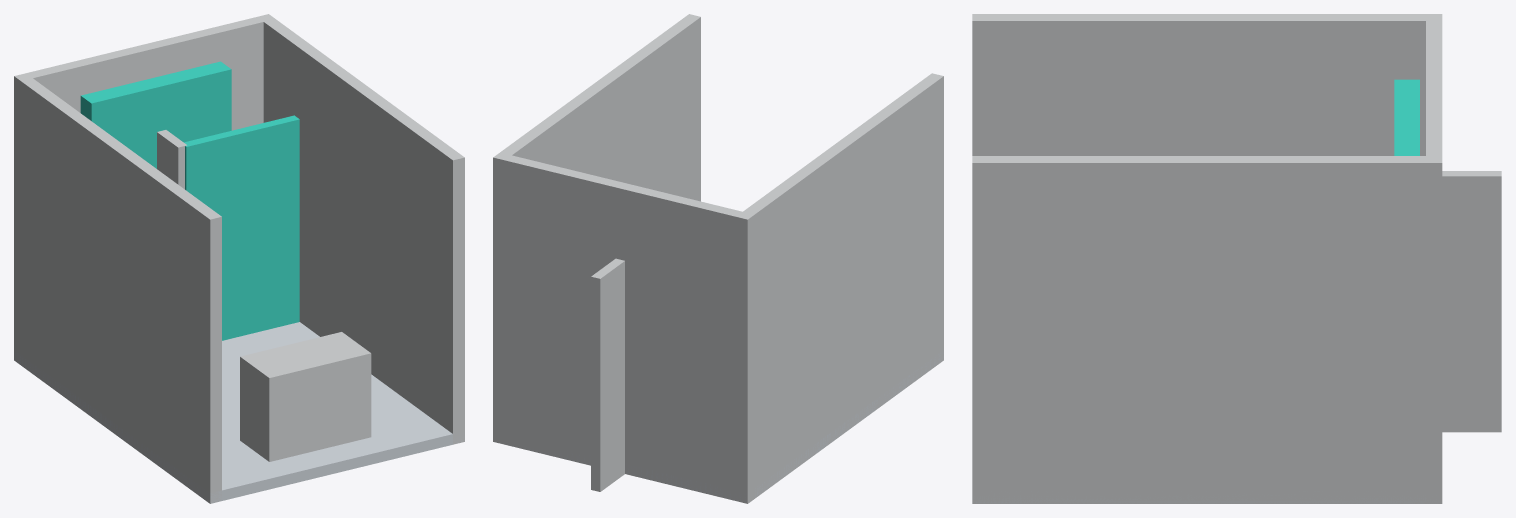
3 renders of one model, left to right at view 1: azimuth 30°, elevation 25°; view 2: azimuth 150°, elevation 25°; view 3: azimuth 270°, elevation 25°, orthographic. The views are drawn at different scales.
Visible parts, largest first — view 1: Exhibition Booth Concept; view 2: Exhibition Booth Concept; view 3: Exhibition Booth Concept.
Boxes of the visible parts, x1,y1,x2,y2 form: Exhibition Booth Concept: [14, 14, 464, 503]; Exhibition Booth Concept: [493, 14, 943, 503]; Exhibition Booth Concept: [972, 14, 1501, 503].
Size of the model in its own units: 3 by 3.2 by 4.51.
